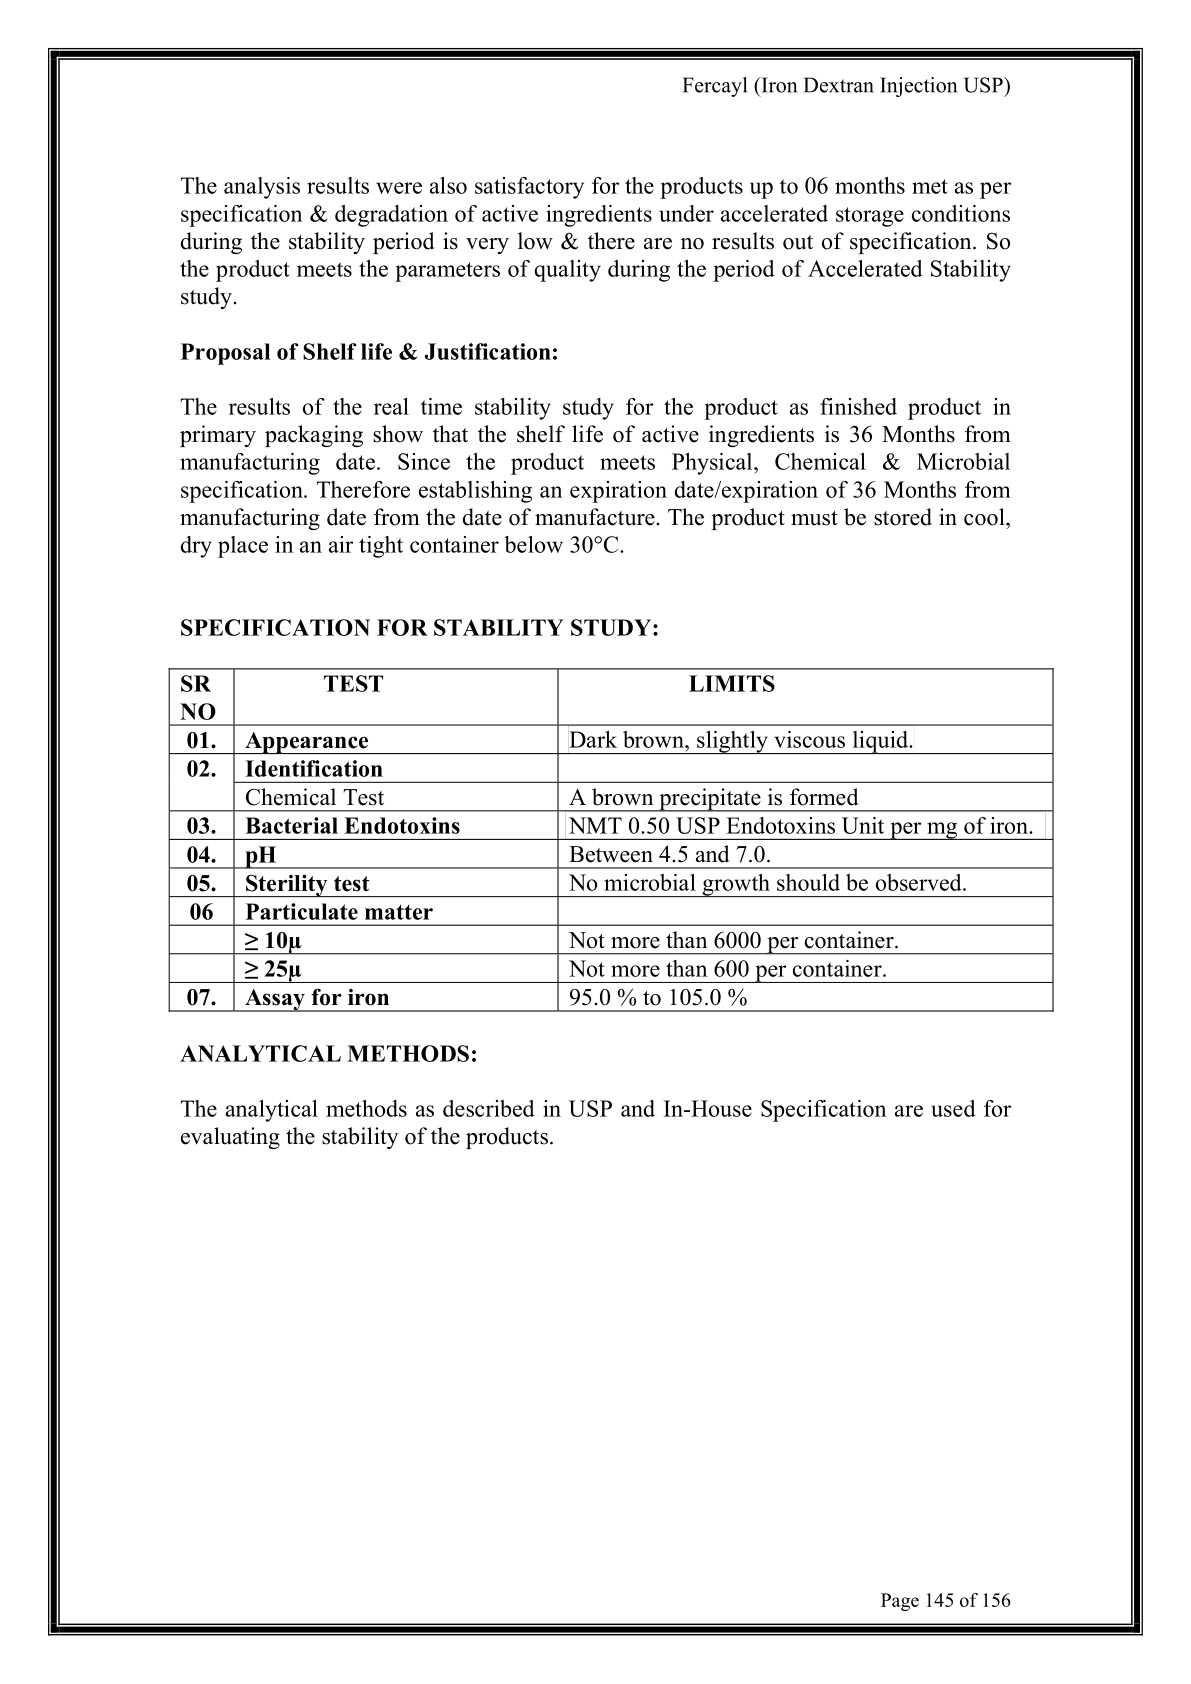full_lined: (168, 667, 1054, 1011)
